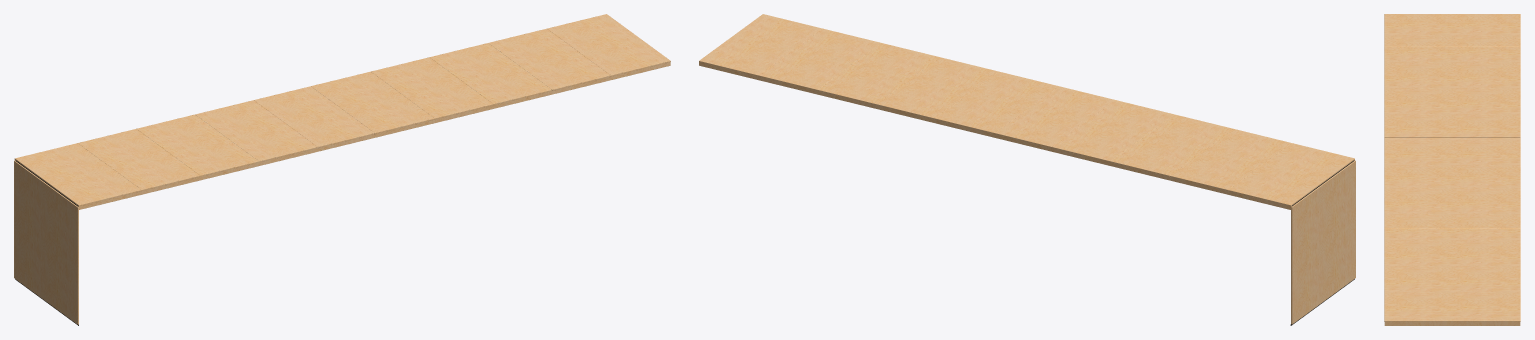
Rendered from rear-top-plywood.glb.
3 renders of one model, left to right at view 1: azimuth 30°, elevation 25°; view 2: azimuth 150°, elevation 25°; view 3: azimuth 270°, elevation 25°, orthographic. The views are drawn at different scales.
Parts seen in each view (by area): view 1: 40FT Blank_PlywoodWall_RearTop_001; view 2: 40FT Blank_PlywoodWall_RearTop_001; view 3: 40FT Blank_PlywoodWall_RearTop_001.
Boxes of the visible parts, x1,y1,x2,y2 form: 40FT Blank_PlywoodWall_RearTop_001: (14,14,670,325); 40FT Blank_PlywoodWall_RearTop_001: (699,14,1355,325); 40FT Blank_PlywoodWall_RearTop_001: (1384,14,1520,325).
Bounding box in the file's own units: 11.94 × 2.33 × 2.23.
Materials: 2 (1 with a texture image).
